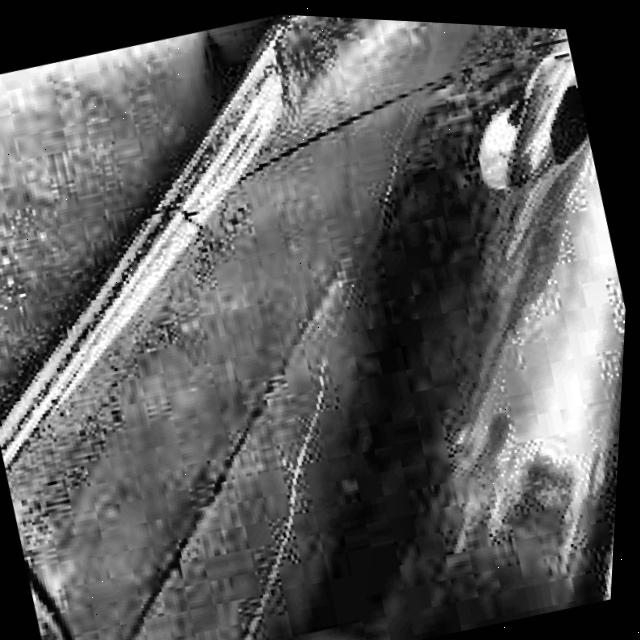door_scratch: (214, 515, 313, 640), (255, 377, 343, 510), (351, 94, 431, 222)
